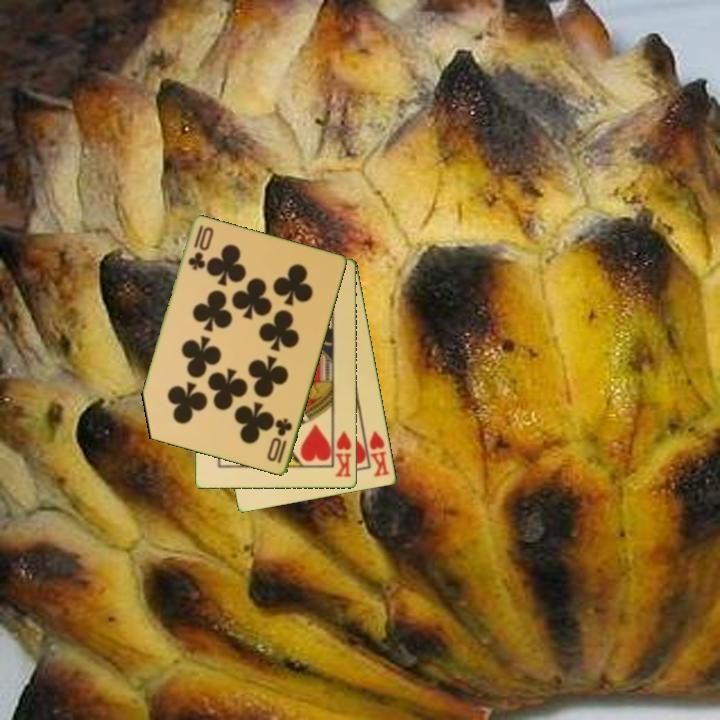10c: (264, 415, 295, 467), (185, 222, 216, 274)
Kh: (361, 426, 393, 480), (330, 425, 355, 480)
